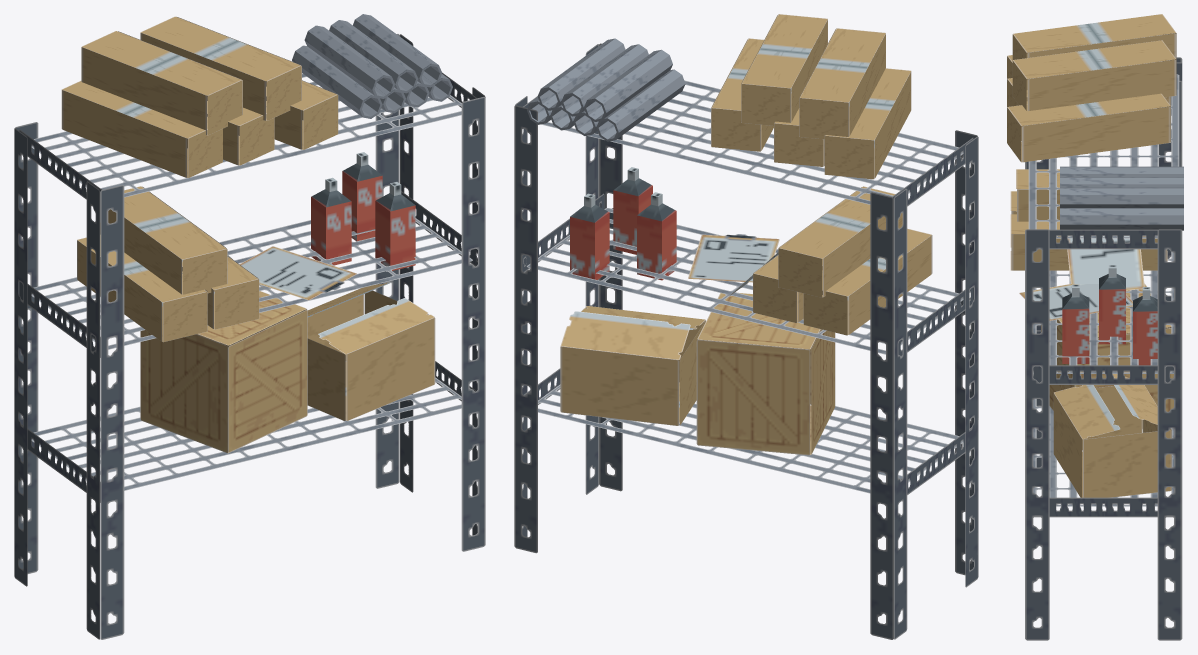
Rendered from jiazi3.fbx.
The picture shows the model from 3 angles, left to right: view 1: azimuth 30°, elevation 25°; view 2: azimuth 150°, elevation 25°; view 3: azimuth 270°, elevation 25°; orthographic projection. The views are drawn at different scales.
Visible parts, largest first — view 1: 平面.003; view 2: 平面.003; view 3: 平面.003.
Boxes of the visible parts, box(x1,y1,x2,y2) form: 平面.003: box(14, 14, 485, 639); 平面.003: box(514, 14, 978, 639); 平面.003: box(1007, 14, 1183, 640).
Size of the model in its own units: 380 by 495 by 165.
